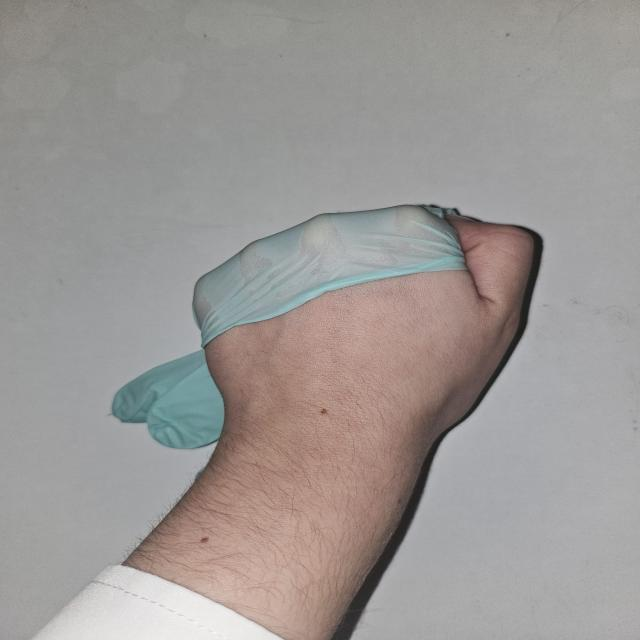glove_partial: (106, 202, 544, 450)
